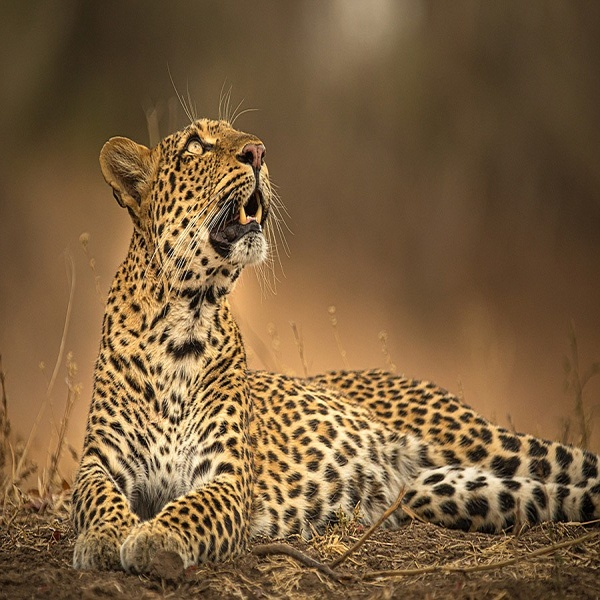Leopard: (67, 109, 600, 579)
